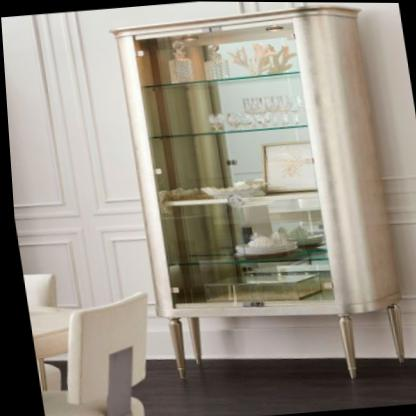Cupboard: (102, 1, 403, 330)
